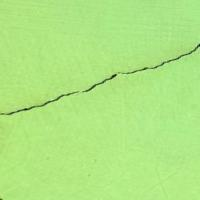crack: (0, 31, 199, 134)
